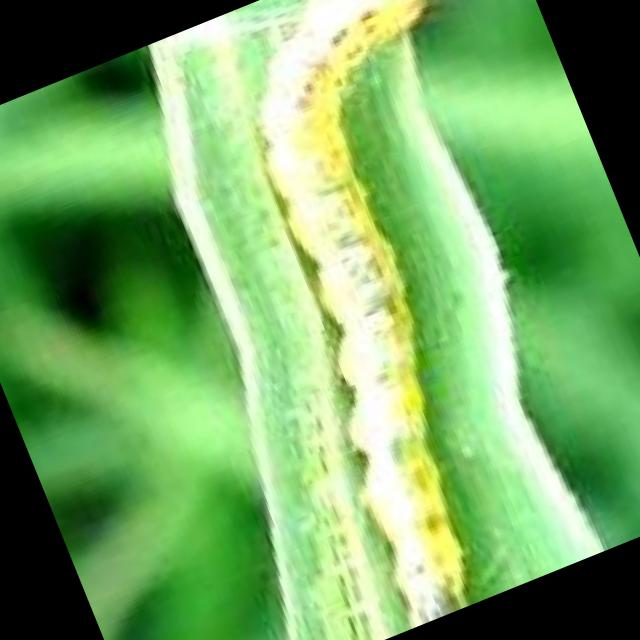leaf-folder: (147, 0, 640, 639)
